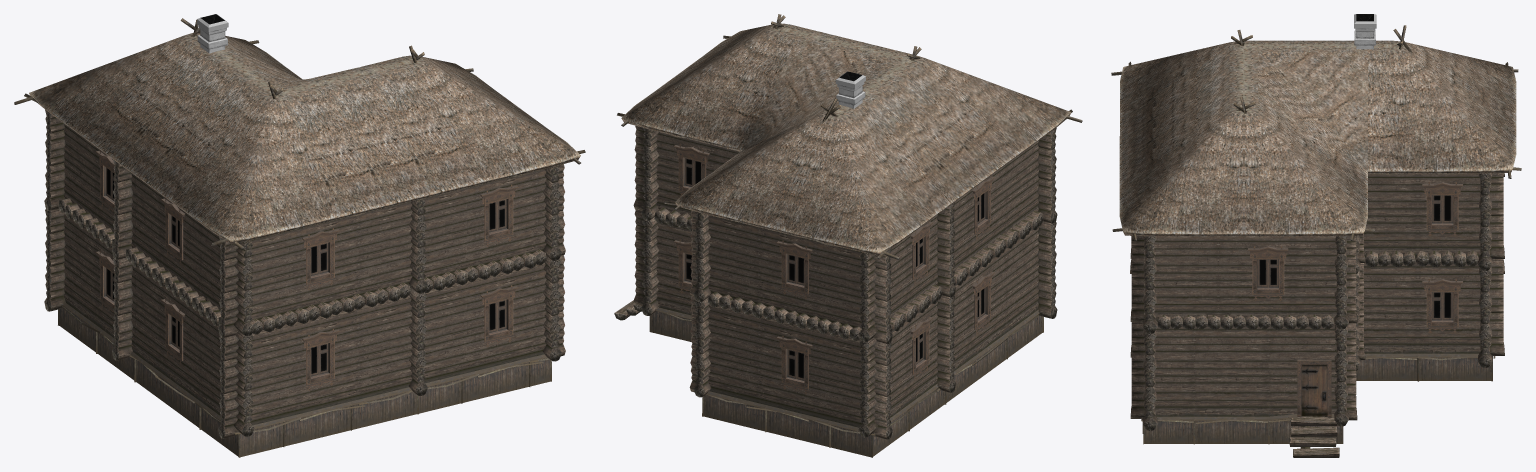
File: house_5.fbx
3 views of the same model, side by side, from view 1: azimuth 30°, elevation 25°; view 2: azimuth 150°, elevation 25°; view 3: azimuth 270°, elevation 25° (orthographic). The views are drawn at different scales.
Visible parts, largest first — view 1: House_5; view 2: House_5; view 3: House_5.
Part boxes in pixels (<box>): House_5: <box>14,14,585,457</box>; House_5: <box>614,14,1082,457</box>; House_5: <box>1111,14,1521,457</box>.
Bounding box in the file's own units: 1452 × 1190 × 1379.
1 material, 1 textured.
